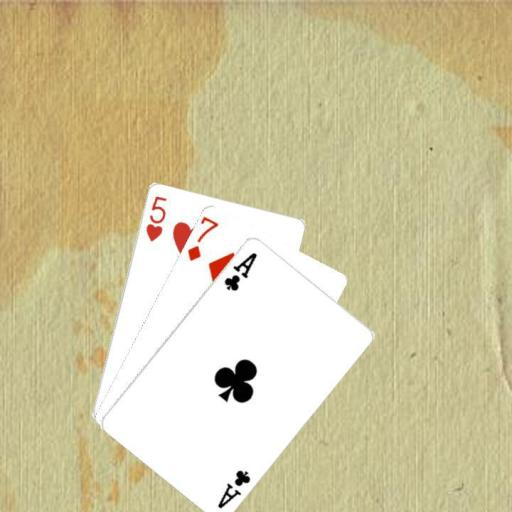5H: (142, 192, 169, 242)
7D: (184, 214, 221, 263)
AC: (220, 249, 259, 292), (214, 466, 252, 510)
